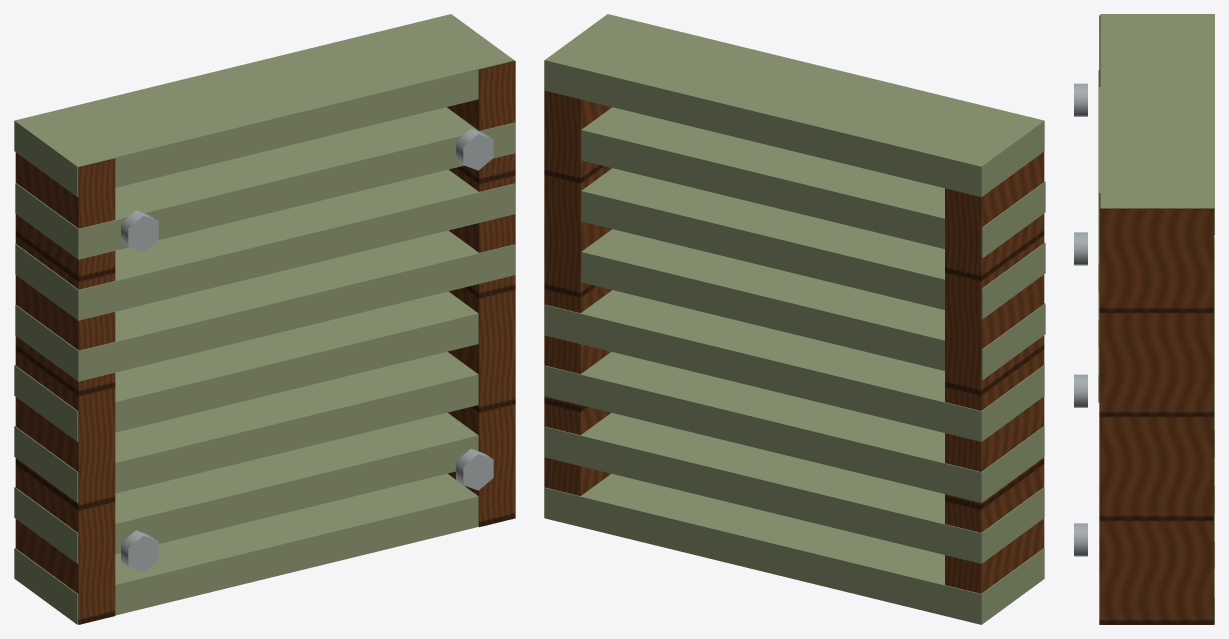
The model's file is bunker-shelter-construction-intake-grille-7e39f968__23321.glb.
3 renders of one model, left to right at view 1: azimuth 30°, elevation 25°; view 2: azimuth 150°, elevation 25°; view 3: azimuth 270°, elevation 25°, orthographic. The views are drawn at different scales.
Parts seen in each view (by area): view 1: intake-grille; view 2: intake-grille; view 3: intake-grille.
Part boxes in pixels (x1,y1,x2,y2): intake-grille: [14, 14, 515, 624]; intake-grille: [544, 14, 1045, 624]; intake-grille: [1074, 14, 1214, 624].
Size of the model in its own units: 0.6012 by 0.6012 by 0.1842.
3 materials, 1 textured.
